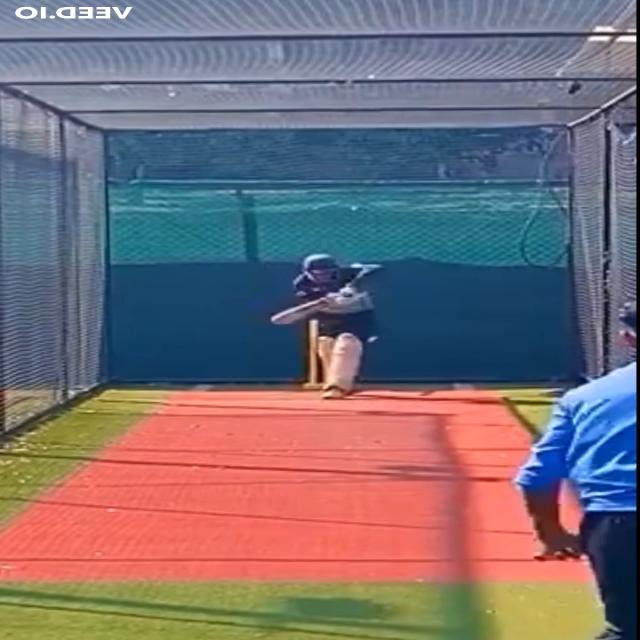ball: (362, 333, 386, 347)
